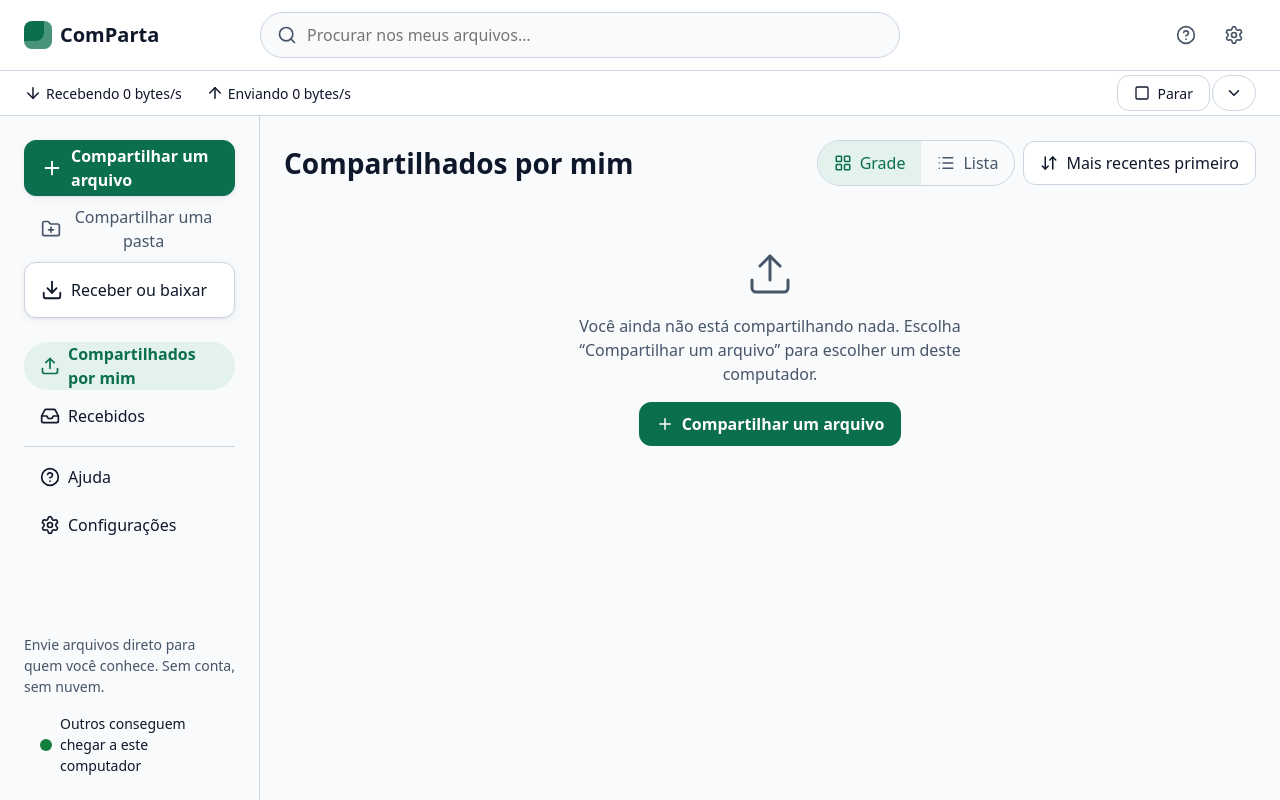
Test: sharing a folder or several files › reads in Brazilian Portuguese
The image size is (1280, 800).
Expected: the text "Você ainda não está compartilhando nada. Escolha “Compartilhar um arquivo” para escolher um deste computador." is shown, [579, 315, 961, 385]
Click the 1st button "Compartilhar um arquivo".
click(130, 168)  # box [24, 140, 235, 196]
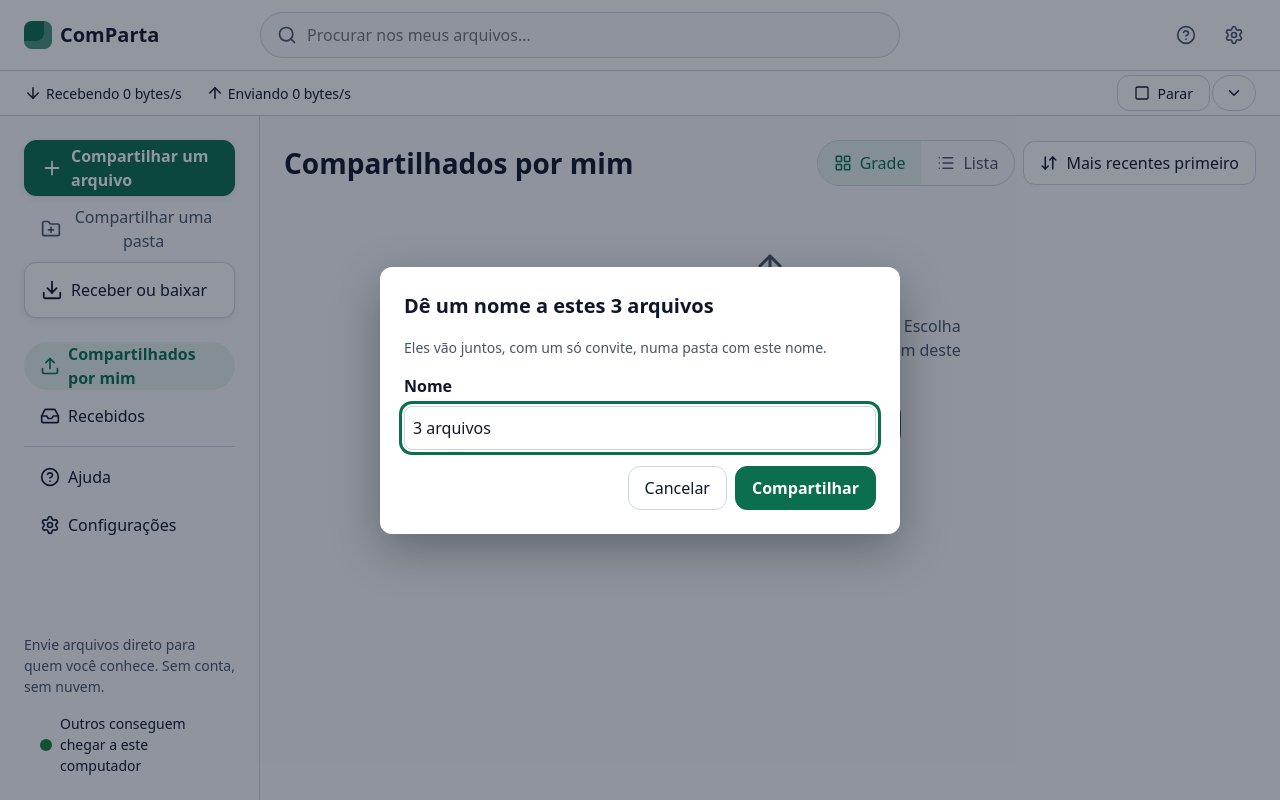
Expected: the button "Compartilhar uma pasta" is shown, [24, 204, 235, 254]
Expected: the field labelled "Nome" holds "3 arquivos", [404, 406, 876, 450]
